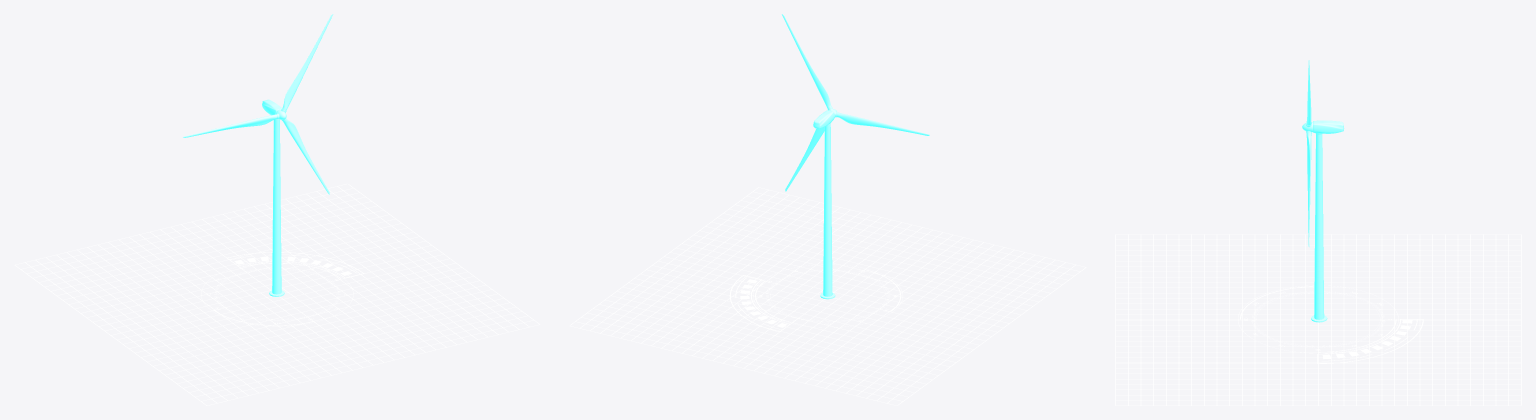
3 renders of one model, left to right at view 1: azimuth 30°, elevation 25°; view 2: azimuth 150°, elevation 25°; view 3: azimuth 270°, elevation 25°, orthographic. The views are drawn at different scales.
Visible parts, largest first — view 1: Plane.001, Plane.002, Circle.003, 塔, 扇叶1, 扇叶2; view 2: Plane.001, Plane.002, Circle.003, 塔, 扇叶2; view 3: Plane.002, Plane.001, Circle.003, 塔, 风机外壳, 扇叶3.
Part boxes in pixels (x1,y1,x2,y2): Plane.001: [15, 184, 539, 405]; Plane.002: [15, 184, 539, 405]; Circle.003: [201, 252, 363, 326]; 塔: [269, 119, 284, 296]; 扇叶1: [282, 14, 333, 110]; 扇叶2: [183, 114, 277, 137]; Plane.001: [570, 187, 1085, 405]; Plane.002: [570, 187, 1086, 405]; Circle.003: [729, 264, 902, 332]; 塔: [820, 122, 835, 299]; 扇叶2: [836, 112, 929, 135]; Plane.002: [1116, 234, 1520, 405]; Plane.001: [1115, 234, 1521, 405]; Circle.003: [1238, 285, 1423, 363]; 塔: [1311, 133, 1327, 322]; 风机外壳: [1313, 120, 1344, 133]; 扇叶3: [1306, 133, 1311, 246].
Size of what is drawn, in the model's own units: 36.8 by 29.53 by 36.8.
